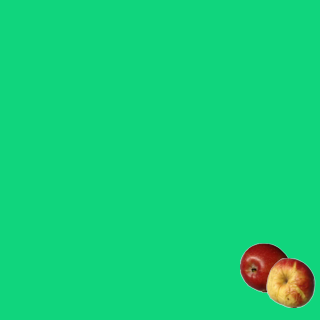Apple Braeburn: (239, 242, 289, 292)
Apple Red Yellow 1: (265, 257, 315, 307)
